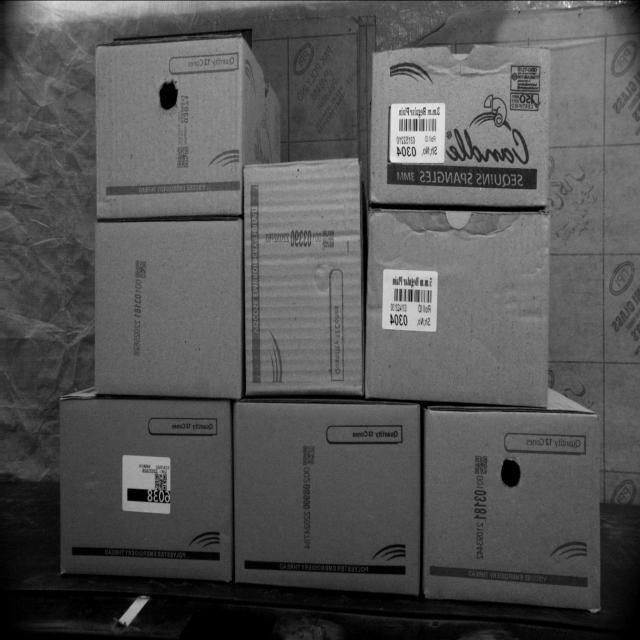cardboxes: (233, 402, 422, 599), (363, 208, 552, 402), (423, 408, 598, 608), (56, 400, 232, 584), (369, 46, 552, 210), (94, 32, 244, 218), (247, 160, 364, 396), (94, 214, 241, 396)
